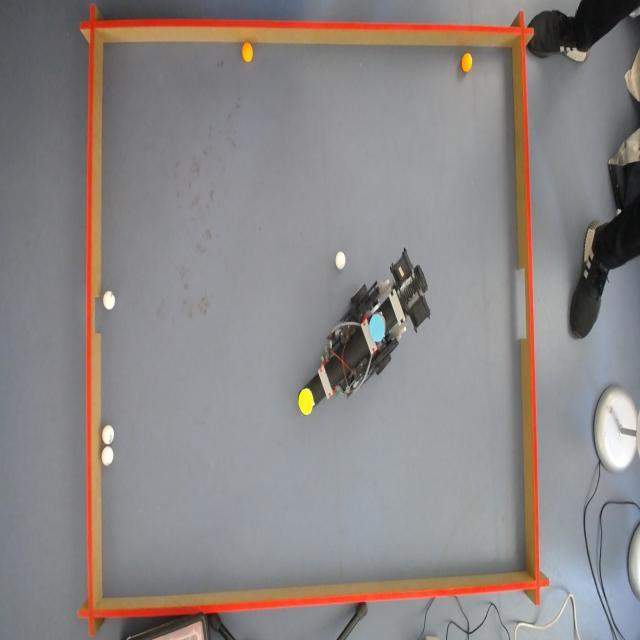orange: (240, 42, 254, 63), (461, 53, 474, 74)
robot: (298, 264, 423, 414)
robot-front: (298, 388, 316, 418)
robot-rear: (368, 310, 386, 342)
white: (100, 446, 113, 468), (100, 426, 114, 445), (102, 292, 114, 312), (336, 252, 346, 271)
